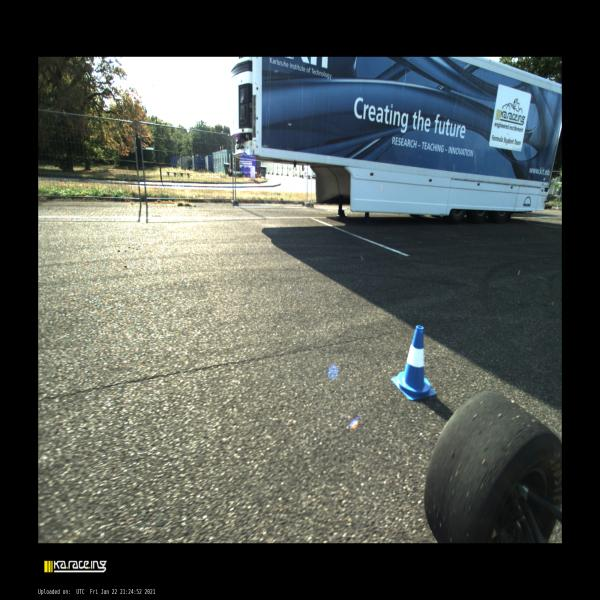blue_cone: (391, 325, 436, 400)
